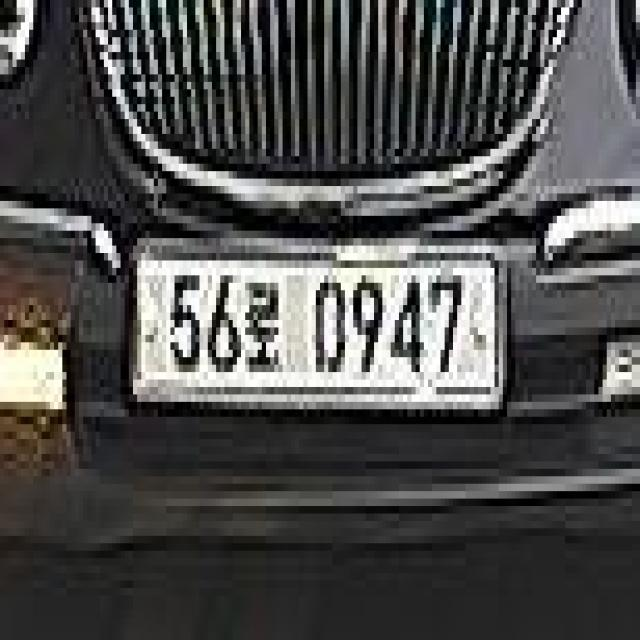illegal_plate: (128, 232, 512, 424)
